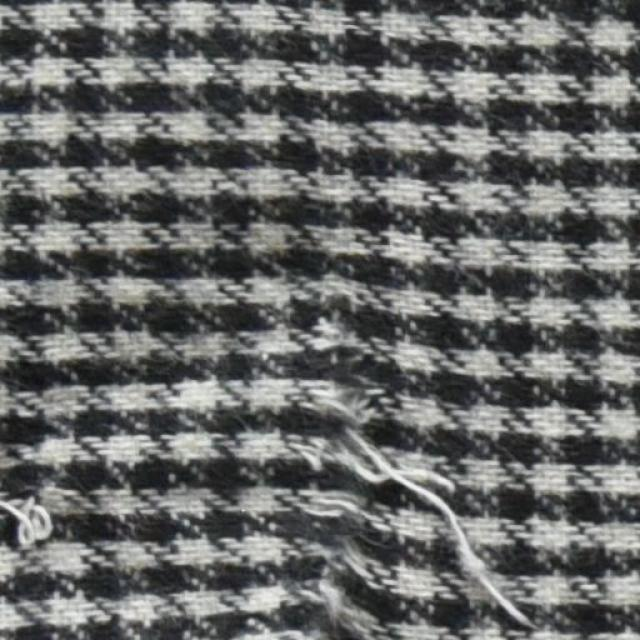Snag: (229, 315, 524, 639), (0, 480, 75, 558)
